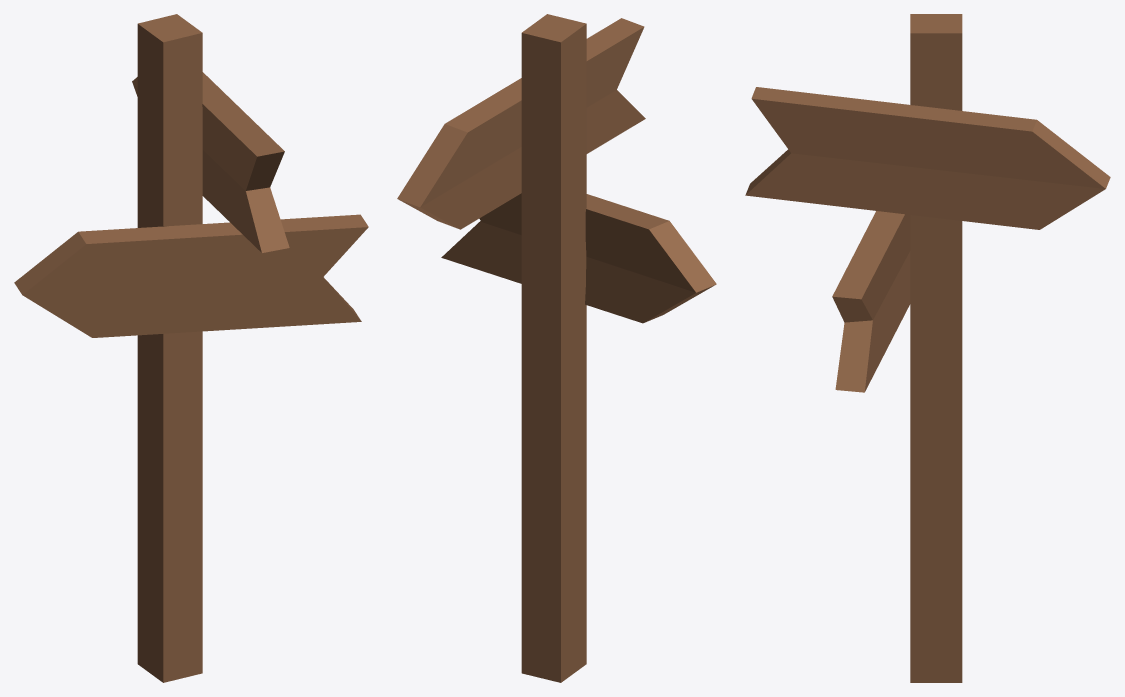
File: direction_sign3.fbx
The picture shows the model from 3 angles, left to right: view 1: azimuth 30°, elevation 25°; view 2: azimuth 150°, elevation 25°; view 3: azimuth 270°, elevation 25°; orthographic projection.
Visible parts, largest first — view 1: direction_sign3, direction1, direction2; view 2: direction_sign3, direction2, direction1; view 3: direction2, direction_sign3, direction1.
Part boxes in pixels (x1,y1,x2,y2): direction_sign3: [137, 14, 202, 682]; direction1: [14, 214, 368, 337]; direction2: [132, 72, 289, 252]; direction_sign3: [521, 14, 586, 682]; direction2: [397, 18, 645, 229]; direction1: [441, 193, 716, 323]; direction2: [745, 87, 1110, 229]; direction_sign3: [910, 14, 962, 682]; direction1: [832, 211, 910, 392].
Size of the model in its own units: 157 by 311 by 159.
